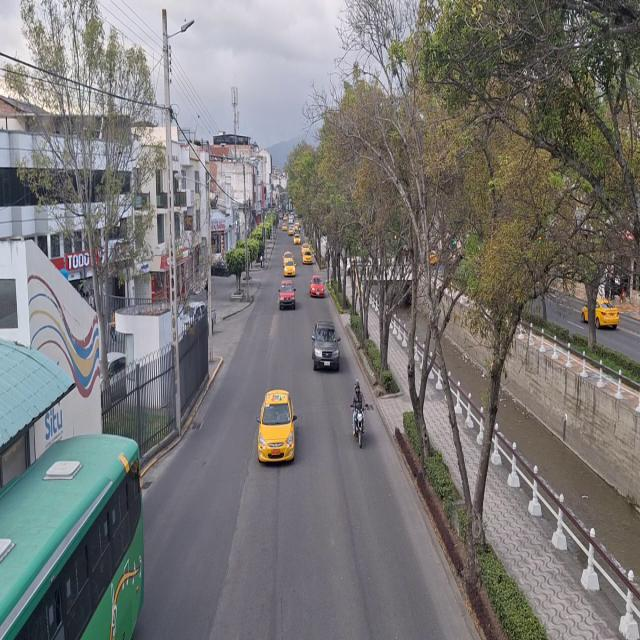MOTORCYCLE: (354, 408, 365, 449)
